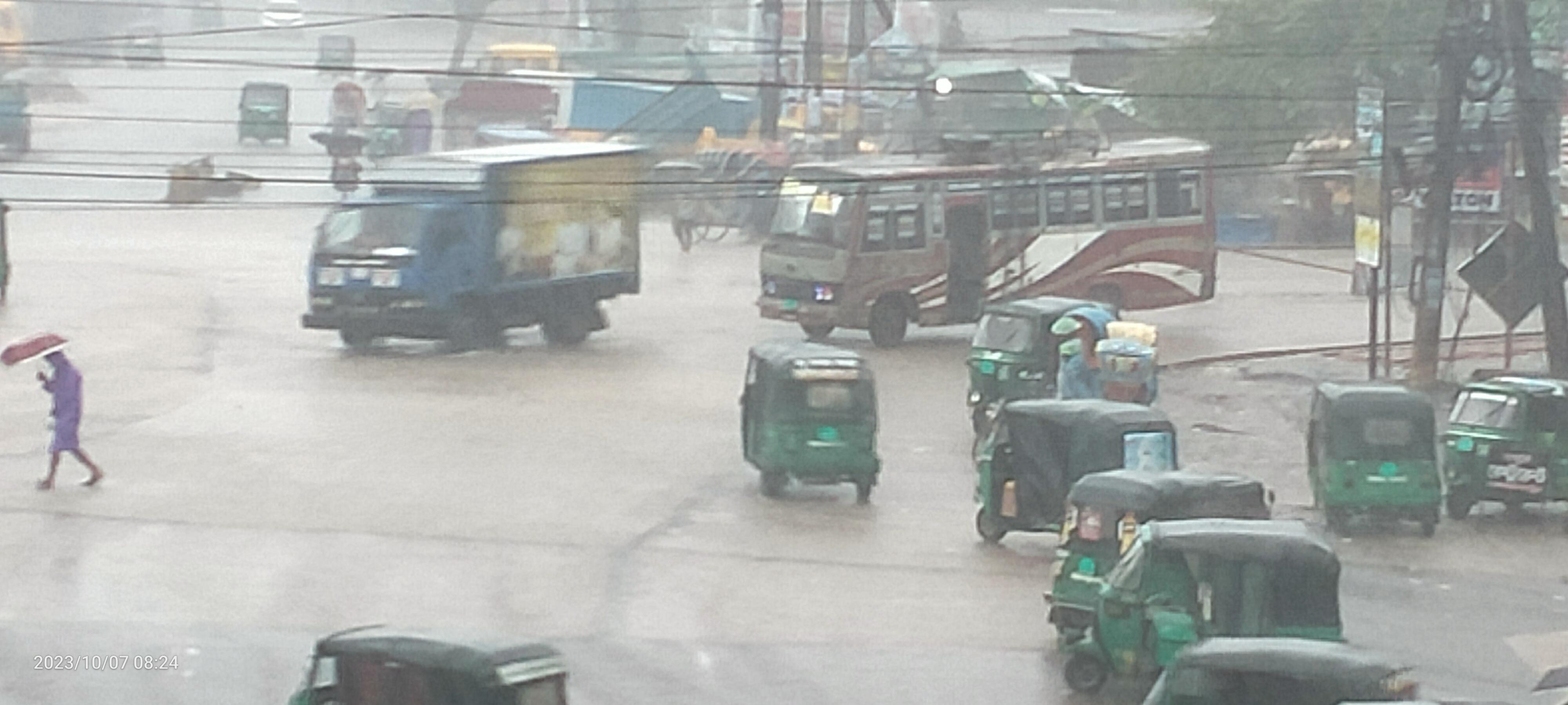Bike: (298, 114, 375, 205)
Bus: (713, 114, 1273, 346)
Truck: (268, 127, 682, 398)
